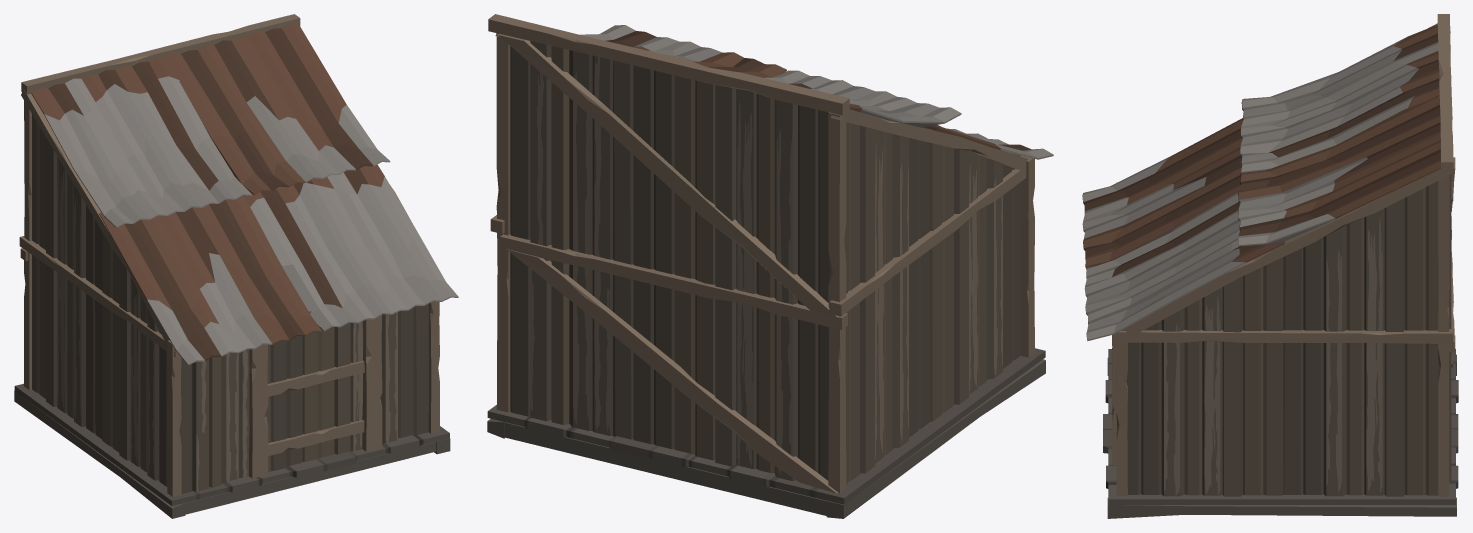
File: SM_Bld_Quarry_04.glb
3 views of the same model, side by side, from view 1: azimuth 30°, elevation 25°; view 2: azimuth 150°, elevation 25°; view 3: azimuth 270°, elevation 25° (orthographic). The views are drawn at different scales.
Parts seen in each view (by area): view 1: SM_Bld_Quarry_04; view 2: SM_Bld_Quarry_04; view 3: SM_Bld_Quarry_04.
Part boxes in pixels (box(x1,y1,x2,y2)): SM_Bld_Quarry_04: box(14, 14, 458, 518); SM_Bld_Quarry_04: box(487, 14, 1053, 518); SM_Bld_Quarry_04: box(1082, 14, 1458, 518).
Bounding box in the file's own units: 5.47 × 6.05 × 5.78.
Materials: 1 (1 with a texture image).
